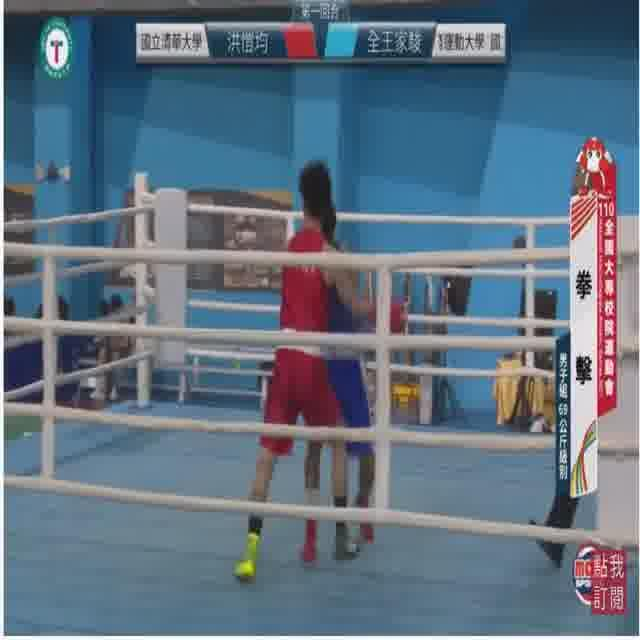blue-player: (299, 196, 382, 567)
red-player: (232, 156, 405, 590)
